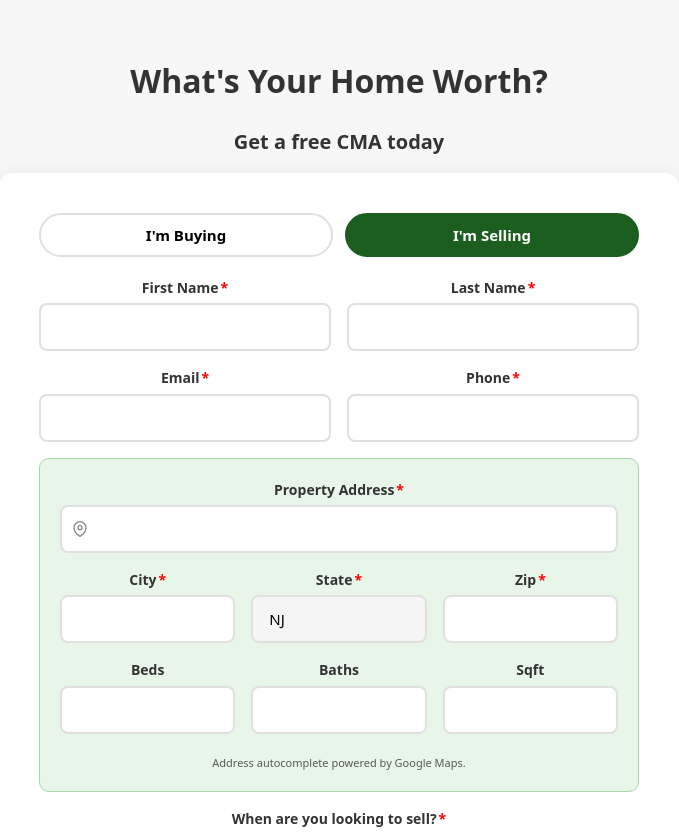
Test: CmaSection rendering › shows buyer-specific submit label when only buying is selected
Click the checkbox labelled "I'm Selling" at (492, 235), box [345,213,639,257]
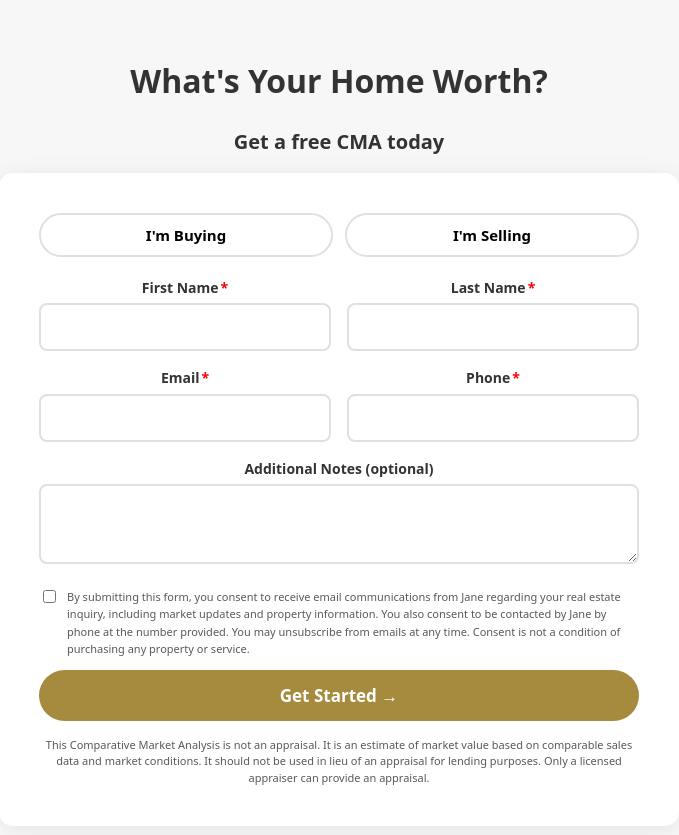
Click the checkbox labelled "I'm Buying" at (186, 235), box [39,213,333,257]
(page scrolled)
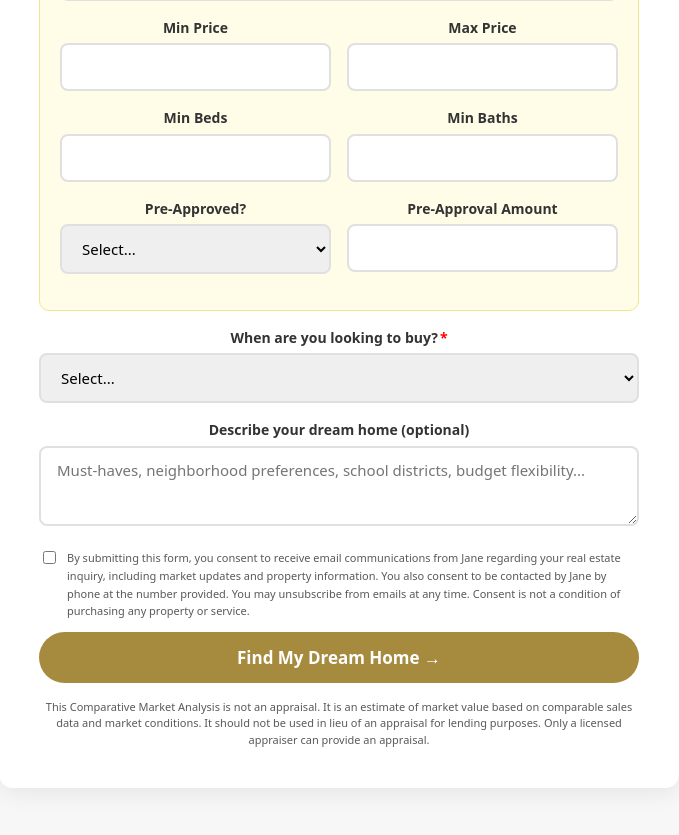
Now the button "Find My Dream Home →" is shown, box [39,632,639,683]
